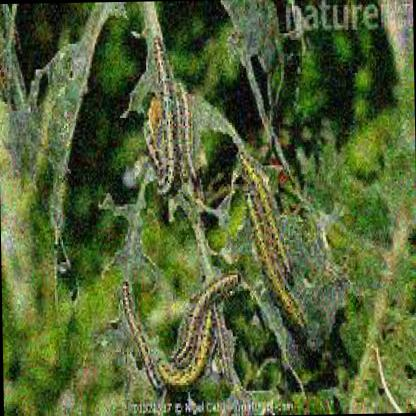pieris: (243, 185, 307, 343), (157, 309, 213, 391)
